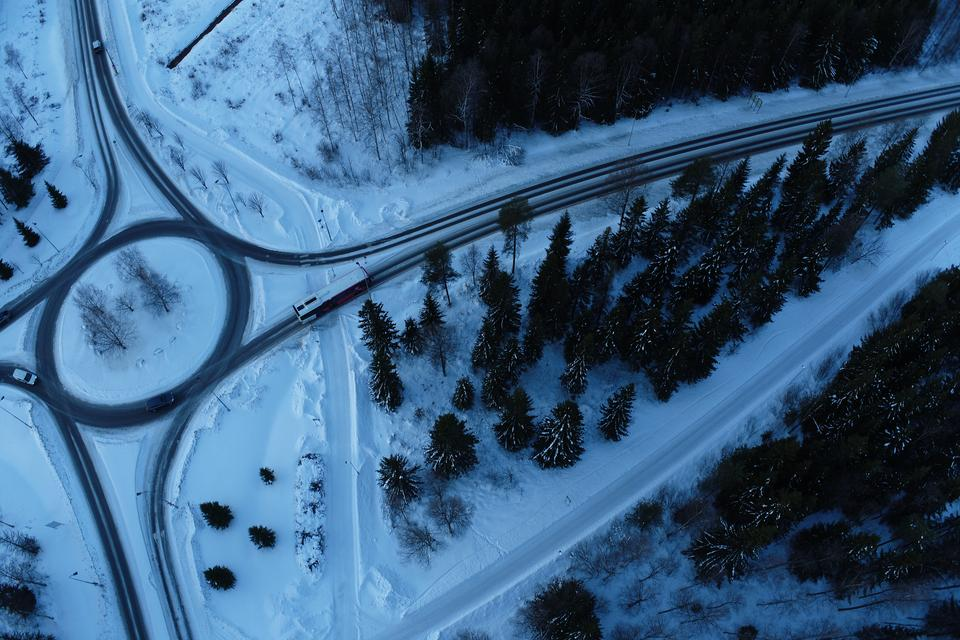intersection: (286, 222, 354, 354)
roundabout: (0, 166, 274, 445)
